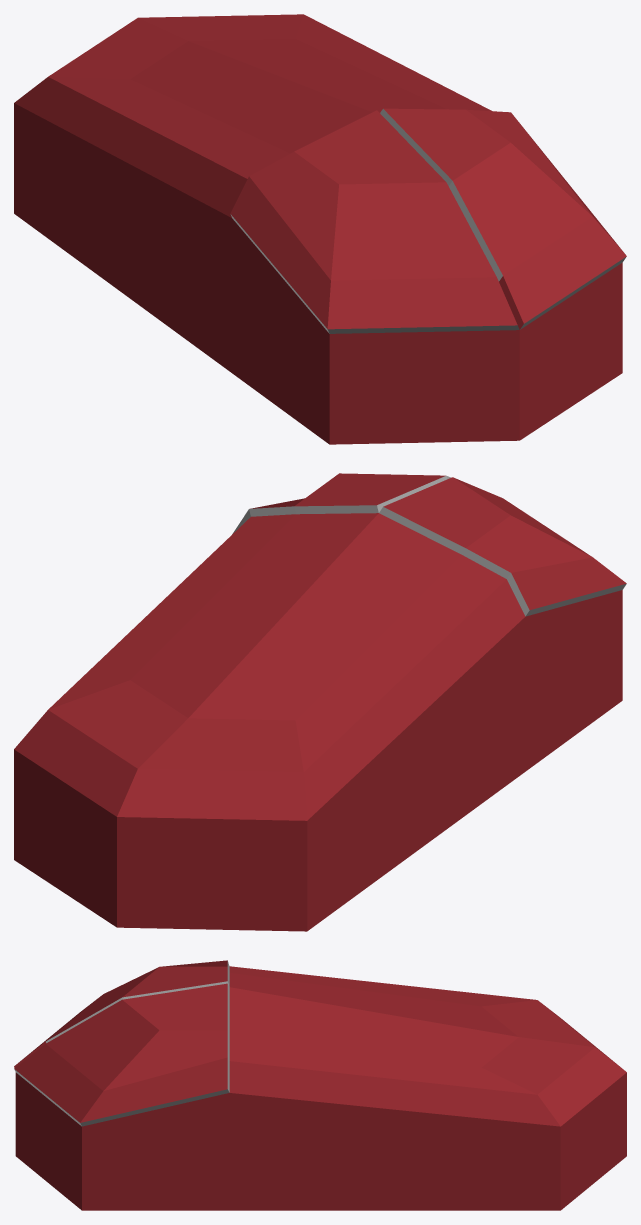
The model's file is raton.fbx.
The picture shows the model from 3 angles, top to bottom: view 1: azimuth 30°, elevation 25°; view 2: azimuth 150°, elevation 25°; view 3: azimuth 270°, elevation 25°; orthographic projection. The views are drawn at different scales.
Parts seen in each view (by area): view 1: Raton; view 2: Raton; view 3: Raton.
Part boxes in pixels (<box>): Raton: <box>14,14,626,444</box>; Raton: <box>14,473,626,931</box>; Raton: <box>14,960,626,1210</box>.
Bounding box in the file's own units: 29.87 × 21.84 × 69.79.
